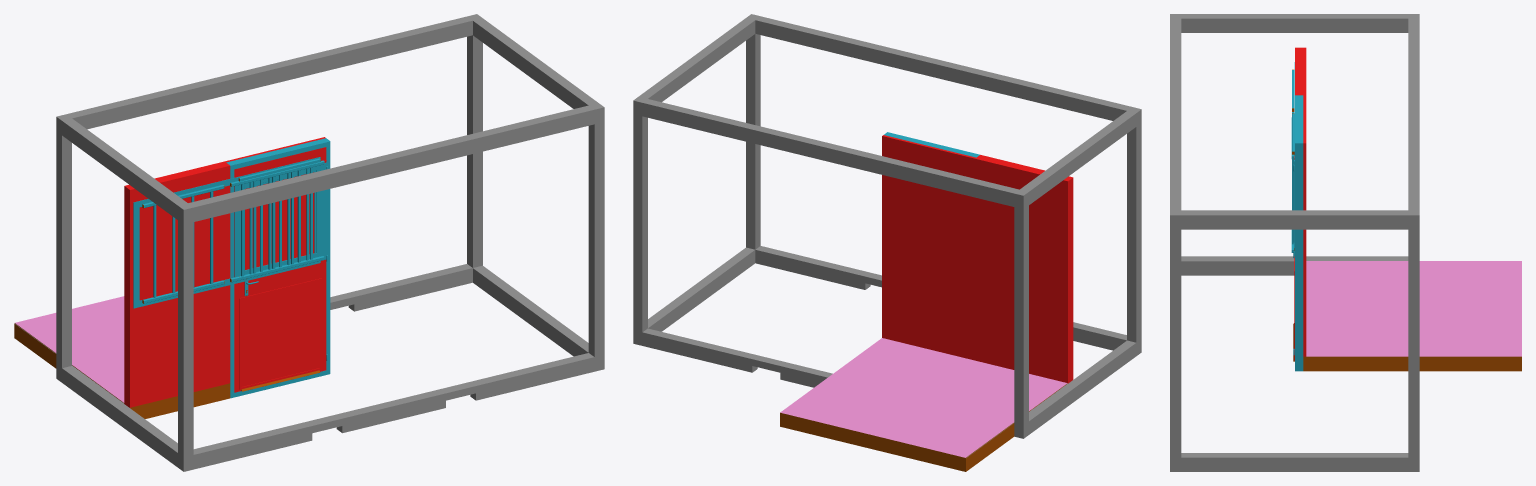
File: SM_Prefab.FBX
3 renders of one model, left to right at view 1: azimuth 30°, elevation 25°; view 2: azimuth 150°, elevation 25°; view 3: azimuth 270°, elevation 25°, orthographic. The views are drawn at different scales.
Visible parts, largest first — view 1: Prefab_Cage, Prefab_LargeWall, Prefab_Door, Prefab_LargeWindows, Prefab_Roof, Prefab_Door_Frame, Prefab_LargeWindows_Protection_L, Prefab_SmallWindows_Protection, Prefab_Door_Protection, Prefab_LargeWindows_Protection_R, Prefab_SmallWindows, Prefab_Ground; view 2: Prefab_Cage, Prefab_LargeWall, Prefab_Roof, Prefab_Wall, Prefab_Ground; view 3: Prefab_Cage, Prefab_Roof, Prefab_Ground, Prefab_Door_Frame, Prefab_LargeWall.
Part boxes in pixels (x1,y1,x2,y2): Prefab_Cage: [56, 14, 604, 471]; Prefab_LargeWall: [124, 137, 325, 407]; Prefab_Door: [234, 147, 326, 392]; Prefab_LargeWindows: [130, 157, 320, 406]; Prefab_Roof: [14, 296, 230, 418]; Prefab_Door_Frame: [226, 138, 330, 398]; Prefab_LargeWindows_Protection_L: [142, 184, 224, 303]; Prefab_SmallWindows_Protection: [243, 160, 324, 279]; Prefab_Door_Protection: [238, 158, 320, 276]; Prefab_LargeWindows_Protection_R: [230, 170, 300, 282]; Prefab_SmallWindows: [234, 163, 326, 281]; Prefab_Ground: [14, 323, 222, 417]; Prefab_Cage: [633, 14, 1141, 438]; Prefab_LargeWall: [882, 135, 1073, 383]; Prefab_Roof: [780, 338, 1067, 471]; Prefab_Wall: [882, 136, 975, 360]; Prefab_Ground: [965, 383, 1067, 471]; Prefab_Cage: [1170, 14, 1419, 471]; Prefab_Roof: [1303, 261, 1521, 371]; Prefab_Ground: [1303, 357, 1521, 371]; Prefab_Door_Frame: [1293, 95, 1303, 371]; Prefab_LargeWall: [1295, 47, 1306, 356].
Size of the model in its own units: 420 by 250 by 310.
